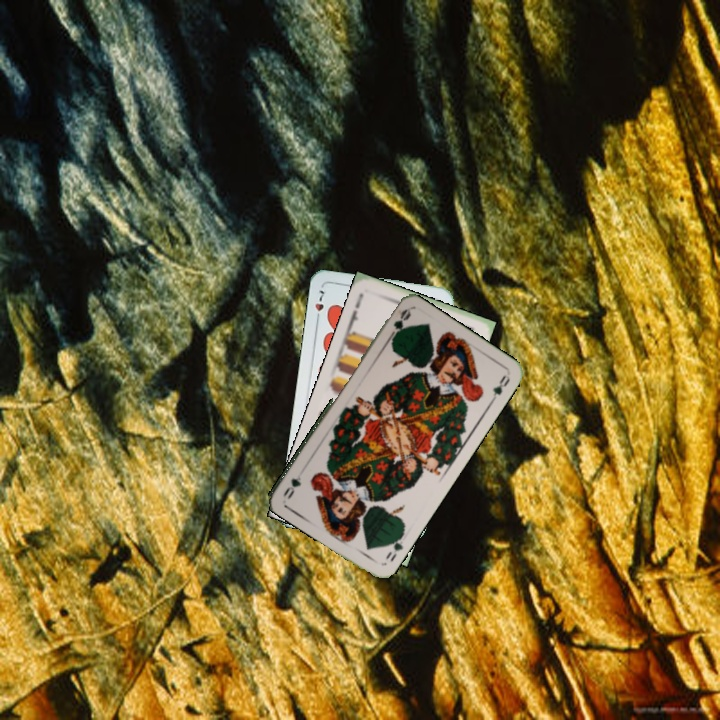E7: (345, 289, 366, 328)
GO: (383, 306, 413, 345), (382, 530, 406, 564)
H7: (311, 286, 329, 325)
